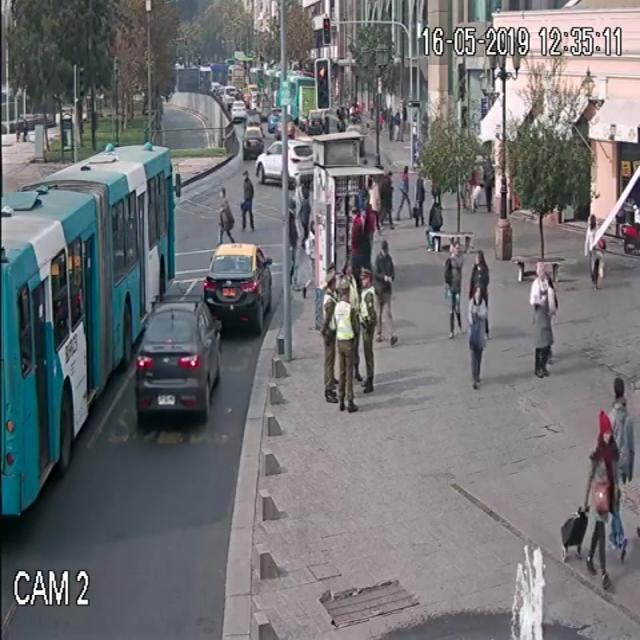AB: (1, 132, 182, 528)
